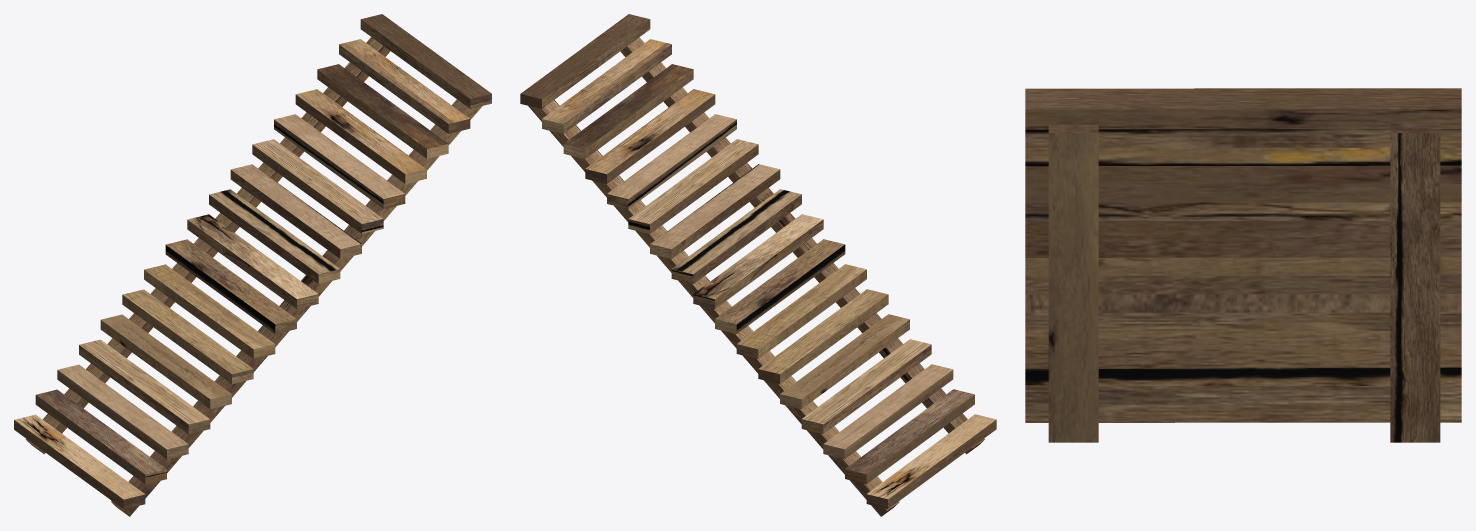
Rendered from stairs_fancy.fbx.
3 renders of one model, left to right at view 1: azimuth 30°, elevation 25°; view 2: azimuth 150°, elevation 25°; view 3: azimuth 270°, elevation 25°, orthographic. The views are drawn at different scales.
Parts seen in each view (by area): view 1: Cube.027; view 2: Cube.027; view 3: Cube.027.
Part boxes in pixels (left/top/right/bottom): Cube.027: left=14, top=14, right=491, bottom=516; Cube.027: left=520, top=14, right=996, bottom=516; Cube.027: left=1025, top=88, right=1461, bottom=442.
Bounding box in the file's own units: 474 × 415 × 241.
1 material, 1 textured.
